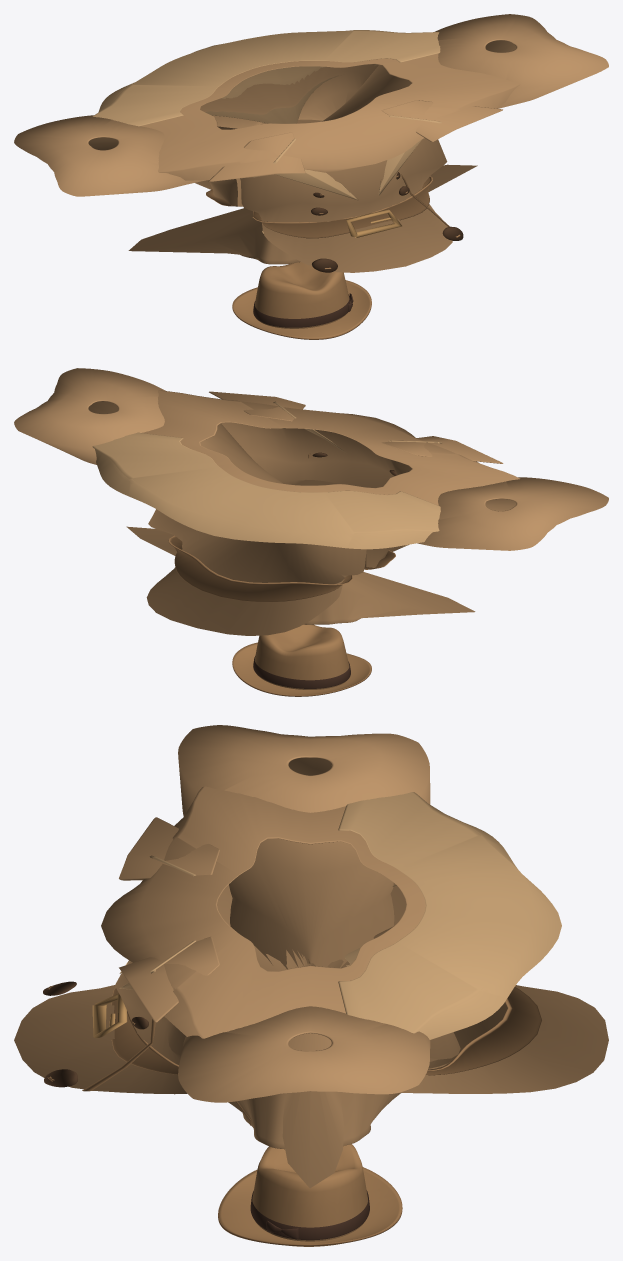
The model's file is detective-outfit.glb.
3 renders of one model, top to bottom at view 1: azimuth 30°, elevation 25°; view 2: azimuth 150°, elevation 25°; view 3: azimuth 270°, elevation 25°, orthographic. The views are drawn at different scales.
Visible parts, largest first — view 1: FCMU_Coat, FCMU_Hat; view 2: FCMU_Coat, FCMU_Hat; view 3: FCMU_Coat, FCMU_Hat.
Boxes of the visible parts, x1=… form: FCMU_Coat: x1=14, y1=14, x2=608, y2=272; FCMU_Hat: x1=232, y1=262, x2=371, y2=339; FCMU_Coat: x1=14, y1=368, x2=608, y2=635; FCMU_Hat: x1=232, y1=624, x2=371, y2=696; FCMU_Coat: x1=14, y1=725, x2=608, y2=1188; FCMU_Hat: x1=218, y1=1144, x2=402, y2=1246.
Size of the model in its own units: 2.51 by 0.9698 by 1.67.
2 materials, 2 textured.
